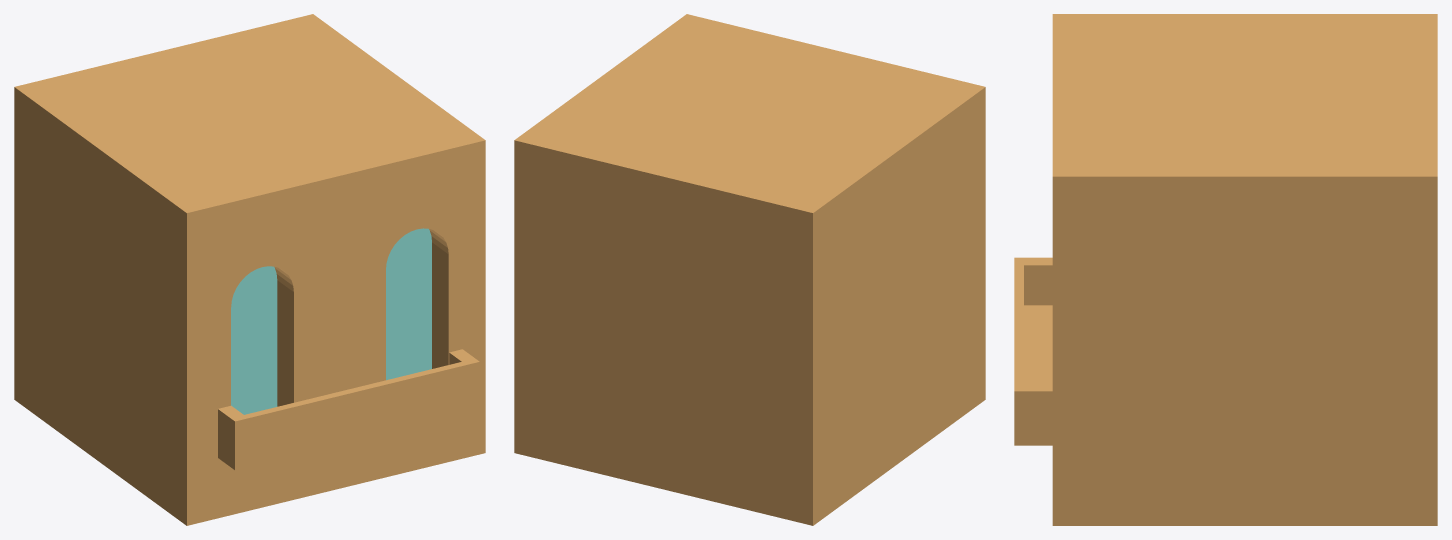
Rendered from middle3.fbx.
The picture shows the model from 3 angles, left to right: view 1: azimuth 30°, elevation 25°; view 2: azimuth 150°, elevation 25°; view 3: azimuth 270°, elevation 25°; orthographic projection. The views are drawn at different scales.
Parts seen in each view (by area): view 1: middle 3; view 2: middle 3; view 3: middle 3.
Boxes of the visible parts, x1,y1,x2,y2 form: middle 3: (14, 14, 485, 525); middle 3: (514, 14, 985, 525); middle 3: (1014, 14, 1437, 525).
Bounding box in the file's own units: 200 × 200 × 220.
